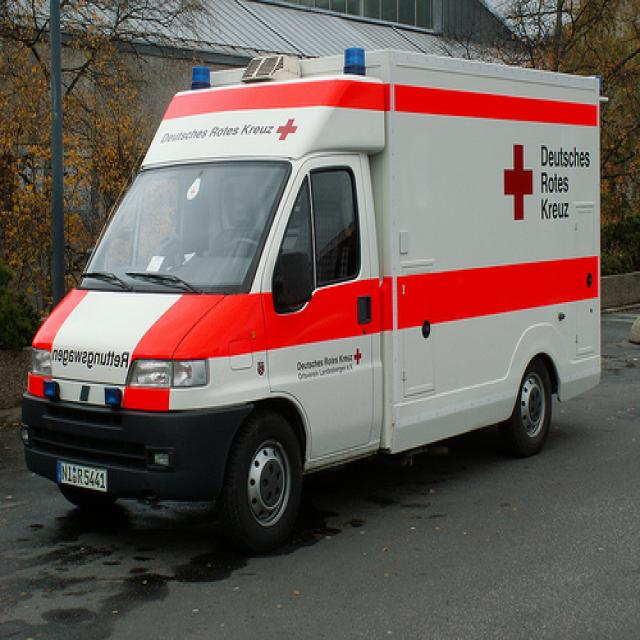emergency-vehicle: (26, 41, 602, 538)
